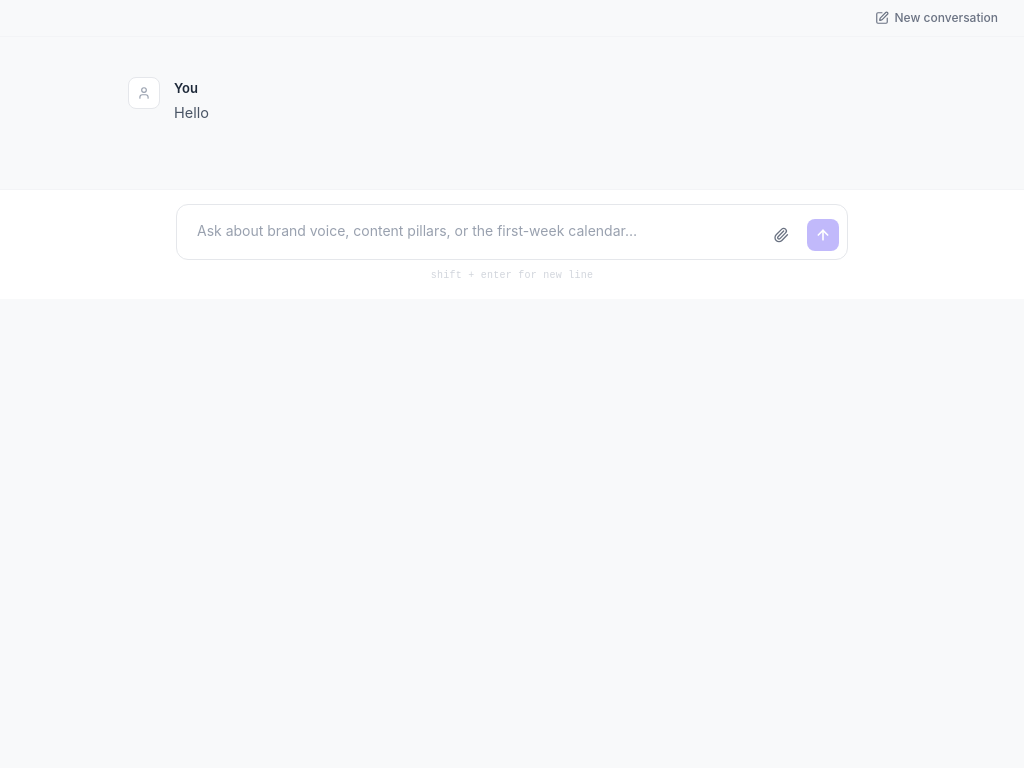
Test: Homepage Chat UI › resets to empty state when new conversation is clicked
Expected: the text "Hello" is shown, [174,104,209,120]
What coordinates should you click on to do the following:
click the button with test id "new-conversation-btn"
I would click on:
 (936, 18)
Its box is [864,6,1008,30].
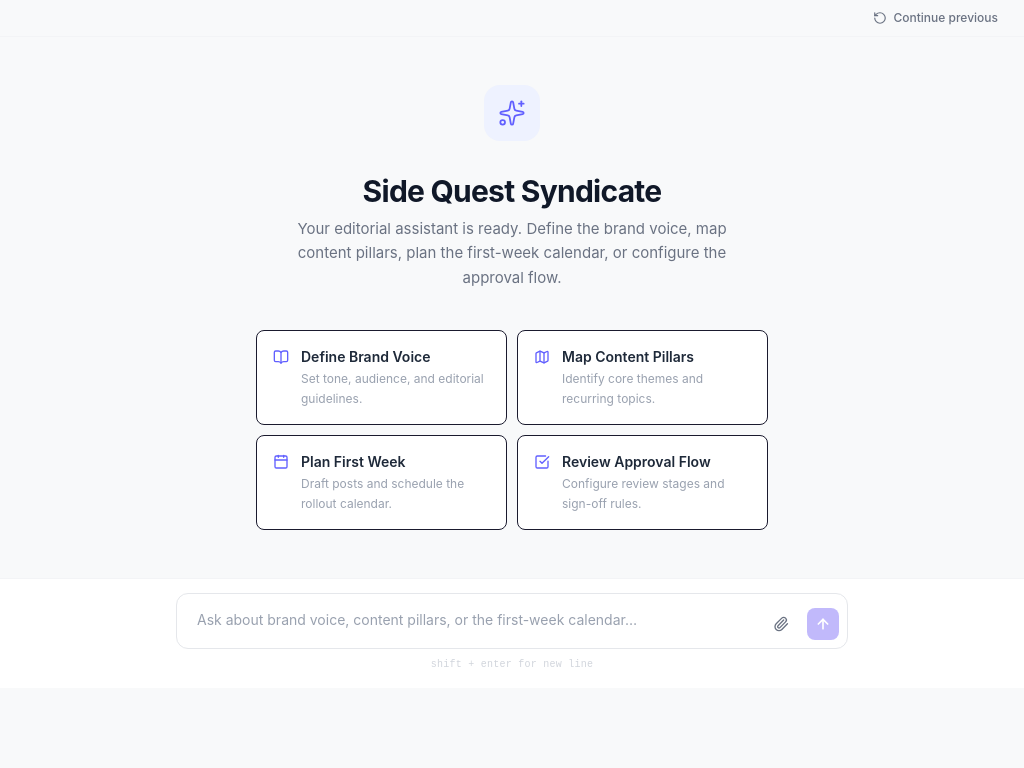
Expected: the element with test id "chat-empty-state" is shown, [256,85,768,530]
Expected: the text "Hello" is gone
Expected: the button with test id "continue-previous-btn" is shown, [863,6,1008,30]
